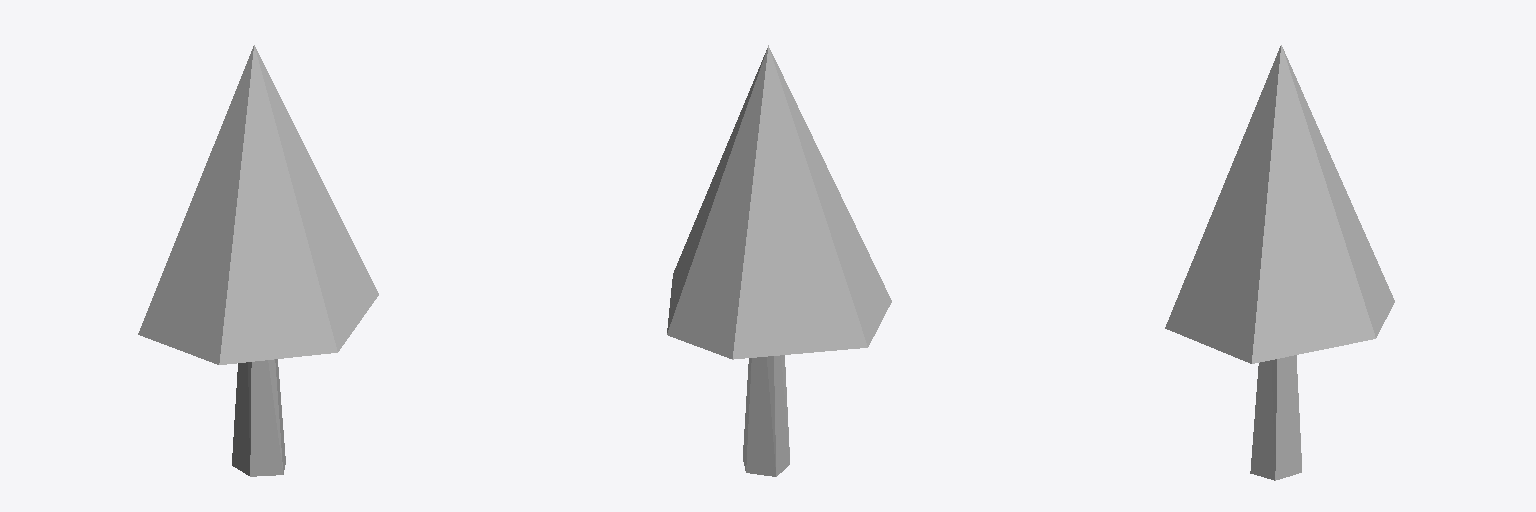
The model's file is Forest_A_FirTree_26.obj.
The picture shows the model from 3 angles: view 1: azimuth 30°, elevation 25°; view 2: azimuth 150°, elevation 25°; view 3: azimuth 270°, elevation 25°; orthographic projection.
Visible parts, largest first — view 1: Forest_A_FirTree_26; view 2: Forest_A_FirTree_26; view 3: Forest_A_FirTree_26.
Boxes of the visible parts, <box> form: Forest_A_FirTree_26: <box>138,45,378,476</box>; Forest_A_FirTree_26: <box>667,45,891,476</box>; Forest_A_FirTree_26: <box>1165,45,1394,480</box>.
Size of the model in its own units: 90.07 by 167 by 82.28.